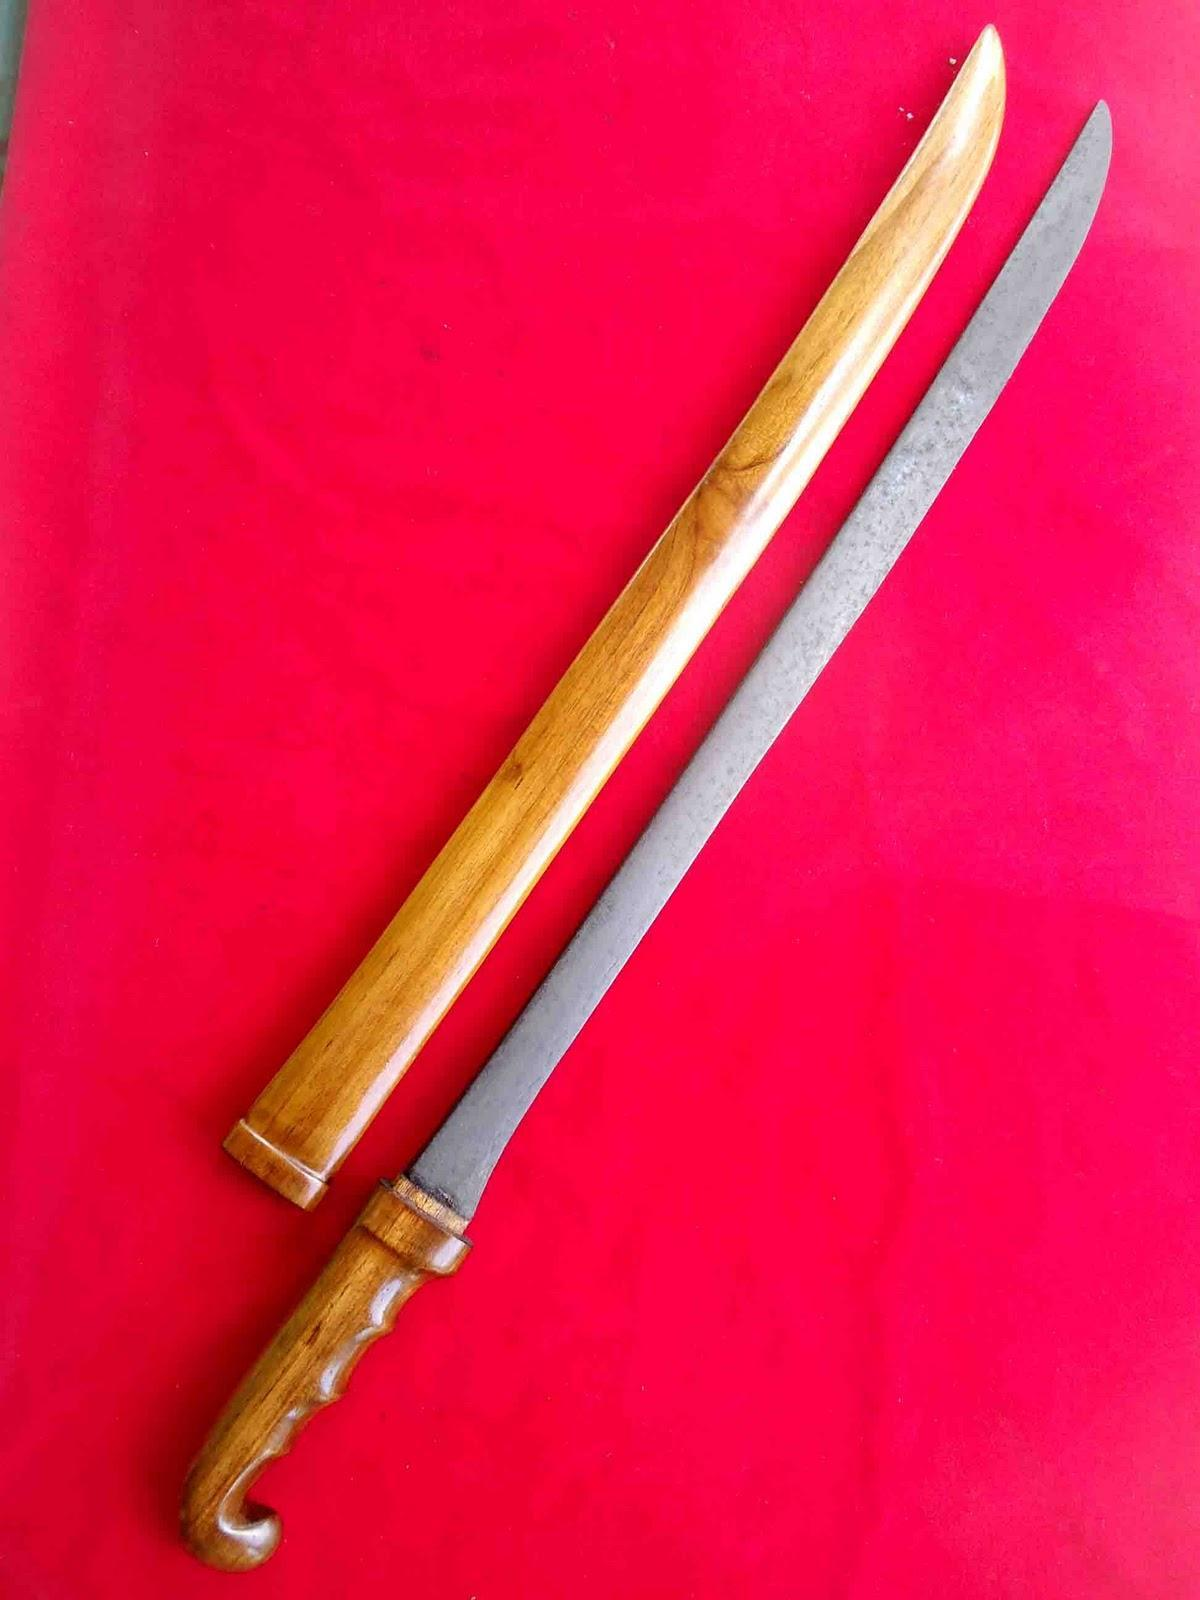facao: (153, 66, 1175, 1565)
